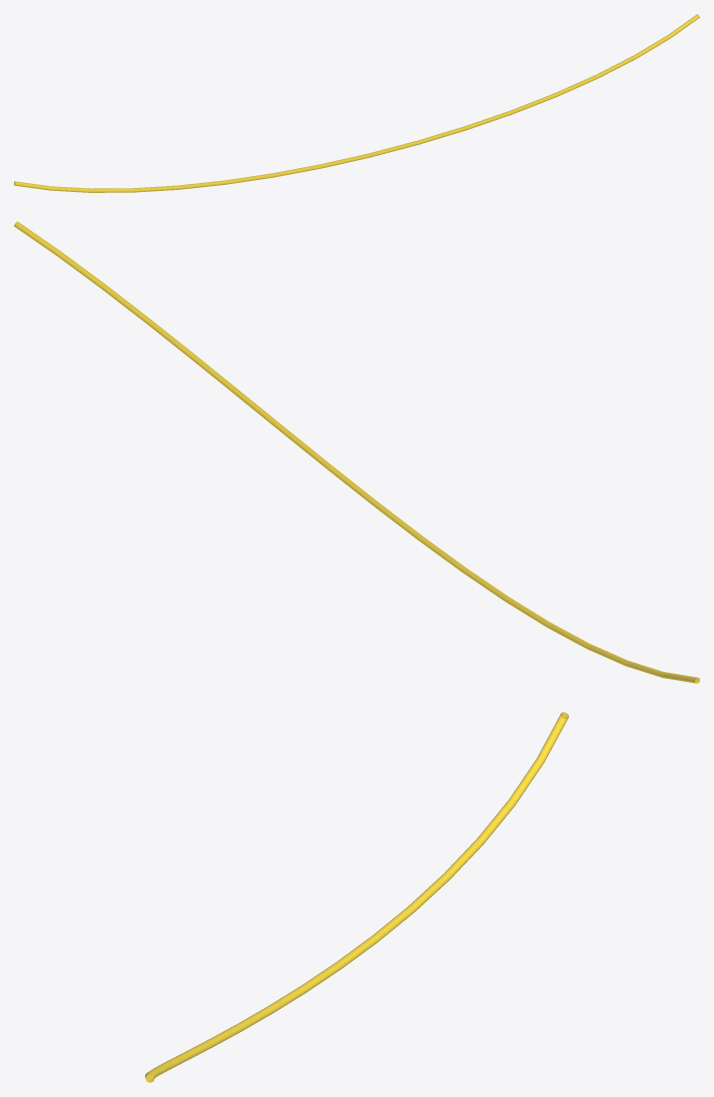
The model's file is Event_15818458_track_34.fbx.
3 views of the same model, one above another, from view 1: azimuth 30°, elevation 25°; view 2: azimuth 150°, elevation 25°; view 3: azimuth 270°, elevation 25° (orthographic). The views are drawn at different scales.
Parts seen in each view (by area): view 1: Model; view 2: Model; view 3: Model.
Part boxes in pixels (x1=…): Model: x1=14, y1=14, x2=699, y2=192; Model: x1=14, y1=221, x2=699, y2=683; Model: x1=145, y1=712, x2=568, y2=1082.
Bounding box in the file's own units: 6.08 × 1.21 × 1.92.
